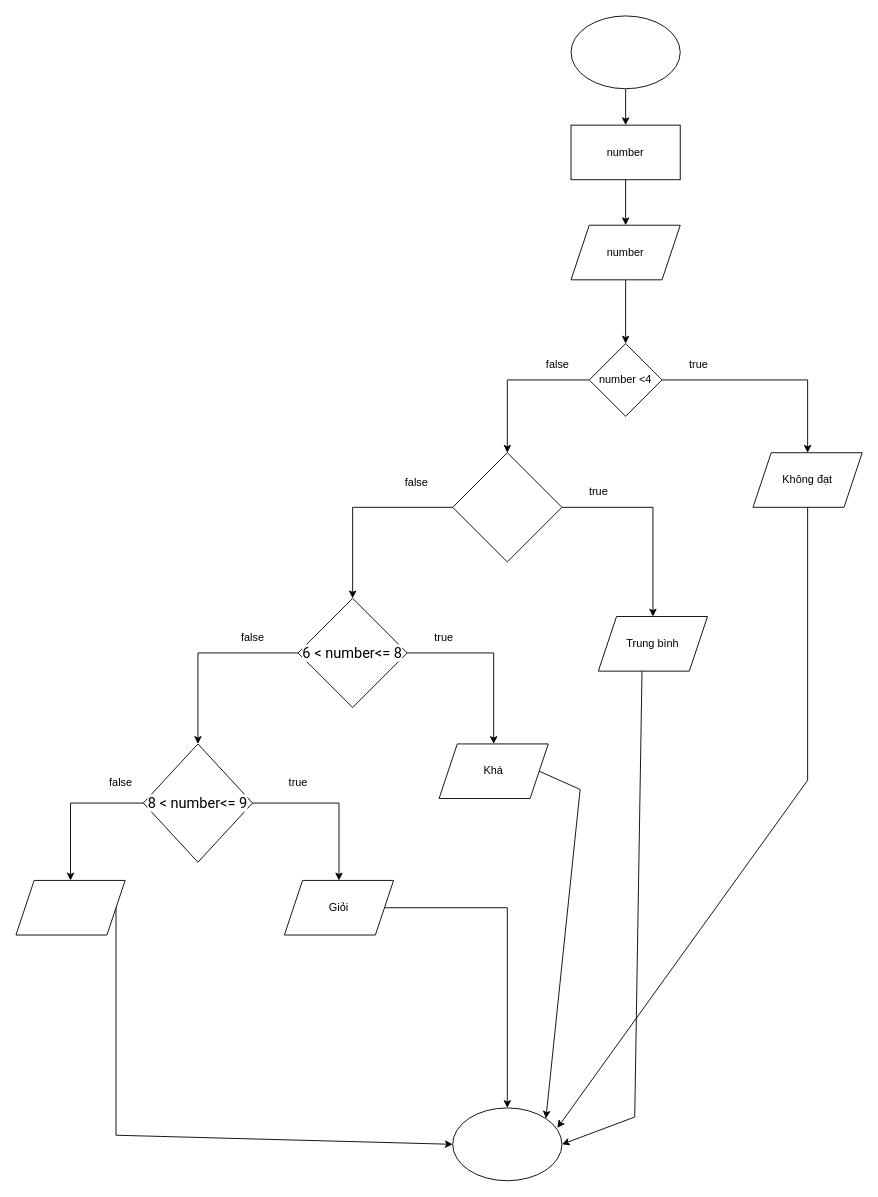
This 878x1197 diagram has some shape labels left out. The centre of each missing label's shape, as x and y in pixels:
"4 <= number<= 6" belongs at pixel 507 507.
"END" belongs at pixel 507 1144.
"START" belongs at pixel 625 52.
"Xuất sắc" belongs at pixel 70 907.
